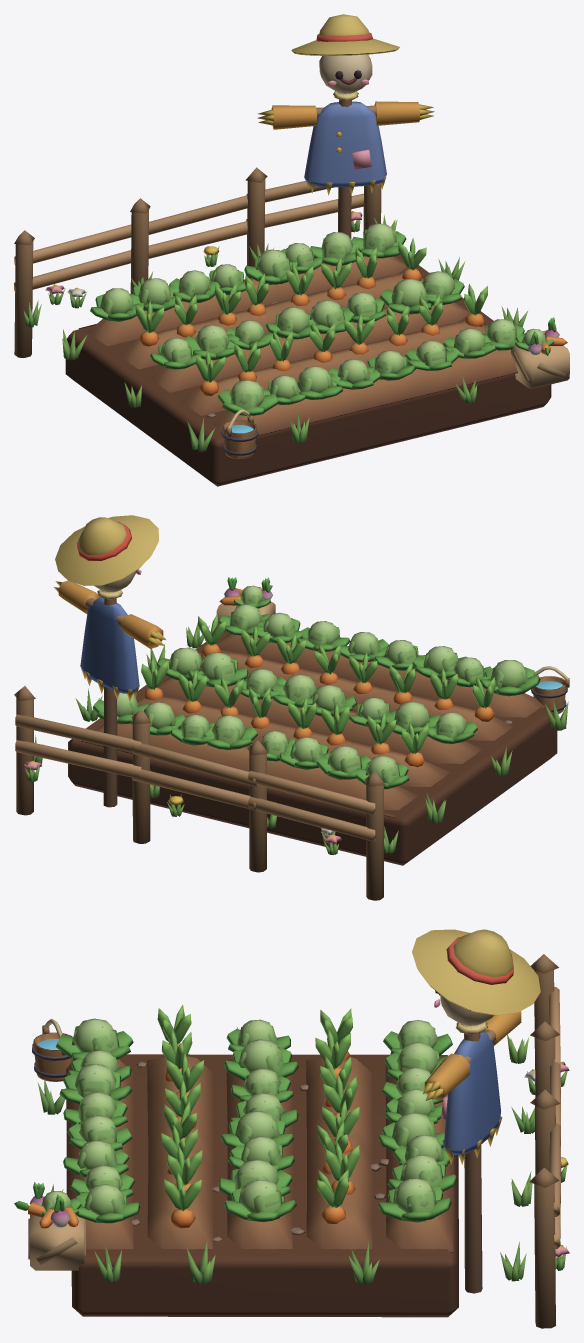
File: farm-1.glb
3 views of the same model, one above another, from view 1: azimuth 30°, elevation 25°; view 2: azimuth 150°, elevation 25°; view 3: azimuth 270°, elevation 25° (orthographic). The views are drawn at different scales.
Parts seen in each view (by area): view 1: farm-1; view 2: farm-1; view 3: farm-1.
Part boxes in pixels (left/top/right/bottom): farm-1: left=14, top=14, right=569, bottom=486; farm-1: left=14, top=515, right=569, bottom=900; farm-1: left=14, top=929, right=569, bottom=1328.
Bounding box in the file's own units: 3.08 × 2.19 × 3.07.
